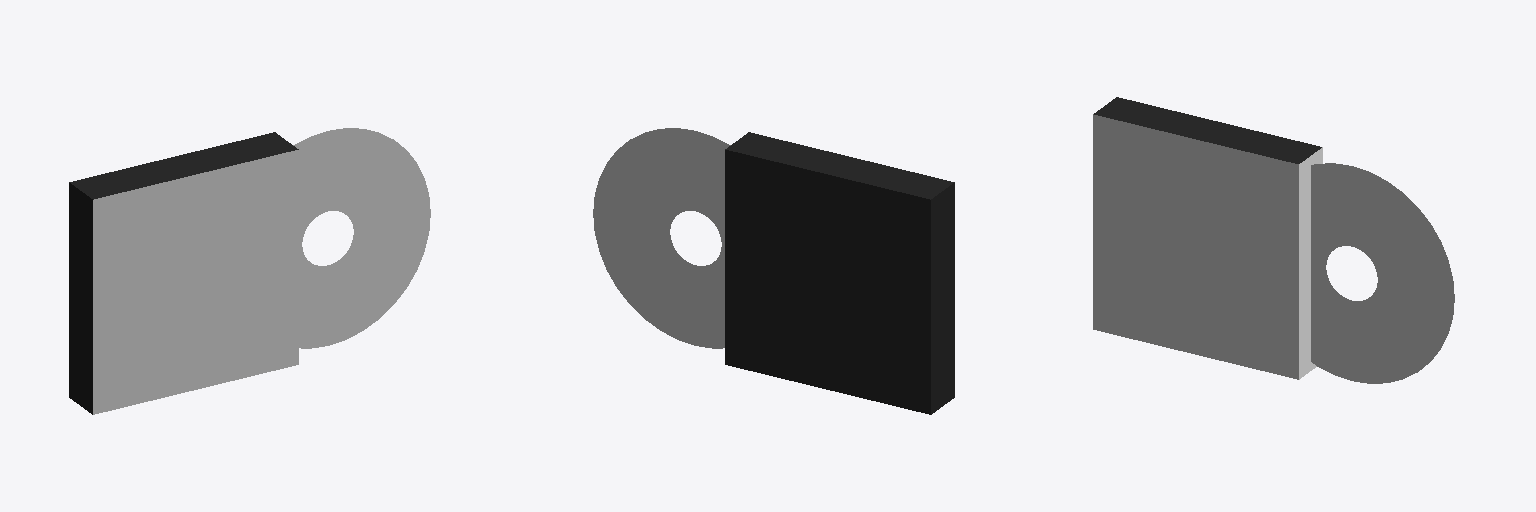
Rendered from nctcd1.obj.
3 views of the same model, side by side, from view 1: azimuth 30°, elevation 25°; view 2: azimuth 150°, elevation 25°; view 3: azimuth 330°, elevation 25° (orthographic).
Parts seen in each view (by area): view 1: Cube, Disc; view 2: Cube, Disc; view 3: Cube, Disc.
Boxes of the visible parts, x1=… form: Cube: x1=69, y1=132, x2=298, y2=414; Disc: x1=293, y1=128, x2=430, y2=348; Cube: x1=725, y1=132, x2=954, y2=414; Disc: x1=593, y1=128, x2=730, y2=348; Cube: x1=1093, y1=97, x2=1322, y2=379; Disc: x1=1311, y1=163, x2=1454, y2=383.
Size of the model in its own units: 340 by 200 by 40.